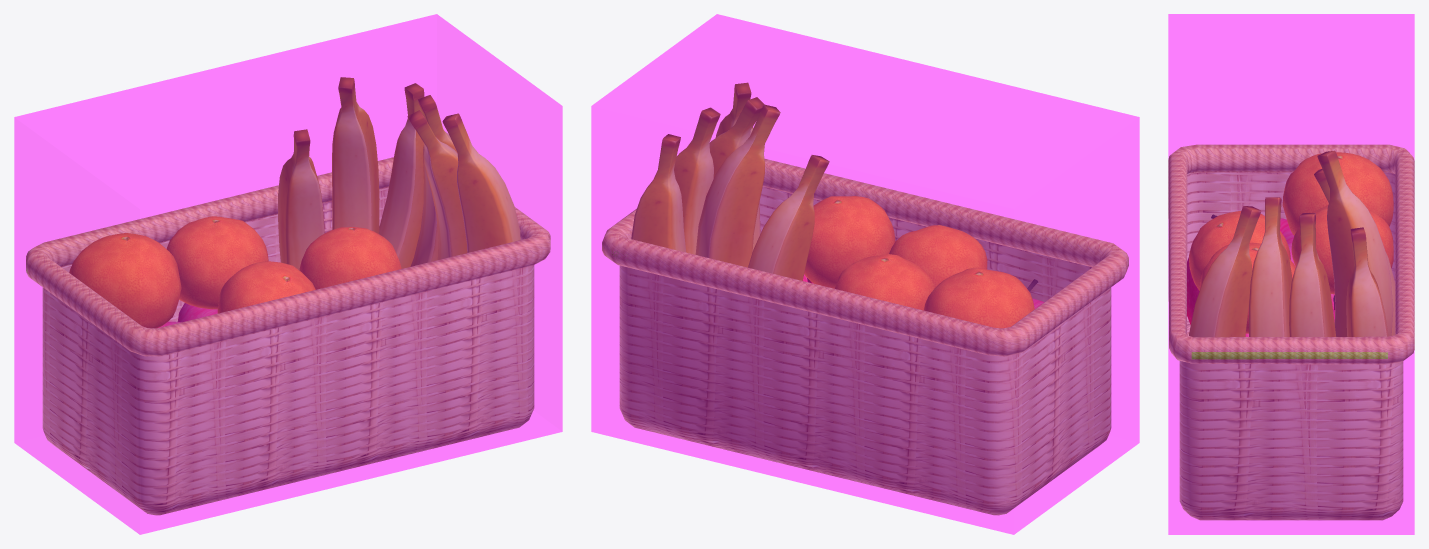
Rendered from fruitbasket_B.fbx.
The picture shows the model from 3 angles, left to right: view 1: azimuth 30°, elevation 25°; view 2: azimuth 150°, elevation 25°; view 3: azimuth 270°, elevation 25°; orthographic projection. The views are drawn at different scales.
Parts seen in each view (by area): view 1: boundingbox, fruitbasket_B; view 2: boundingbox, fruitbasket_B; view 3: boundingbox, fruitbasket_B.
Boxes of the visible parts, x1=… form: boundingbox: x1=14, y1=14, x2=562, y2=534; fruitbasket_B: x1=26, y1=77, x2=550, y2=515; boundingbox: x1=591, y1=14, x2=1139, y2=534; fruitbasket_B: x1=602, y1=82, x2=1128, y2=515; boundingbox: x1=1168, y1=14, x2=1414, y2=534; fruitbasket_B: x1=1168, y1=144, x2=1414, y2=520.
Size of the model in its own units: 21.38 by 15.74 by 11.02.
8 materials, 7 textured.
